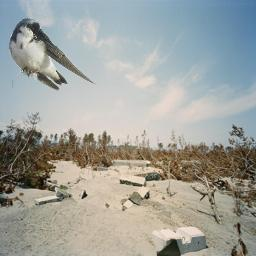Swallow: (7, 17, 96, 91)
